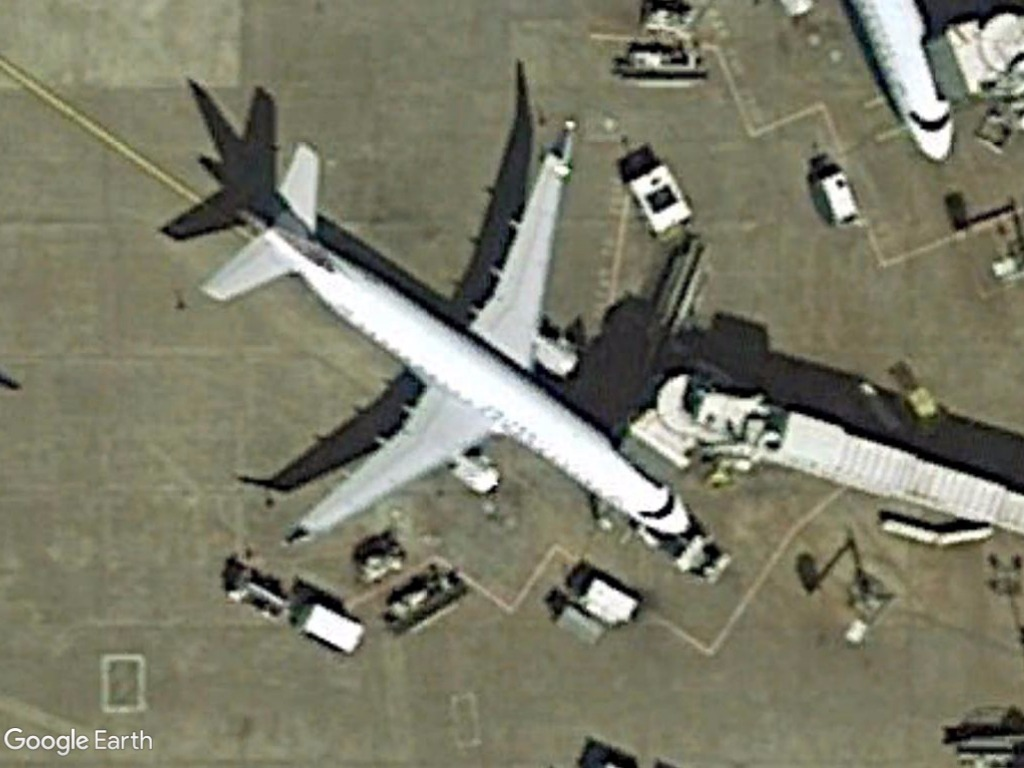airliner: (193, 126, 696, 548)
